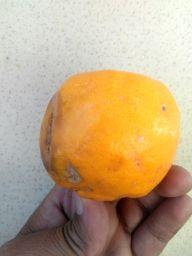Unripe: (39, 70, 181, 200)
